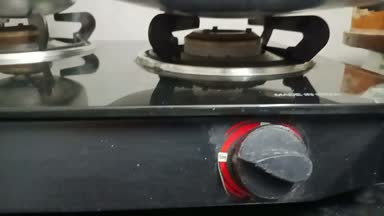noflame_gason: (139, 9, 344, 201)
